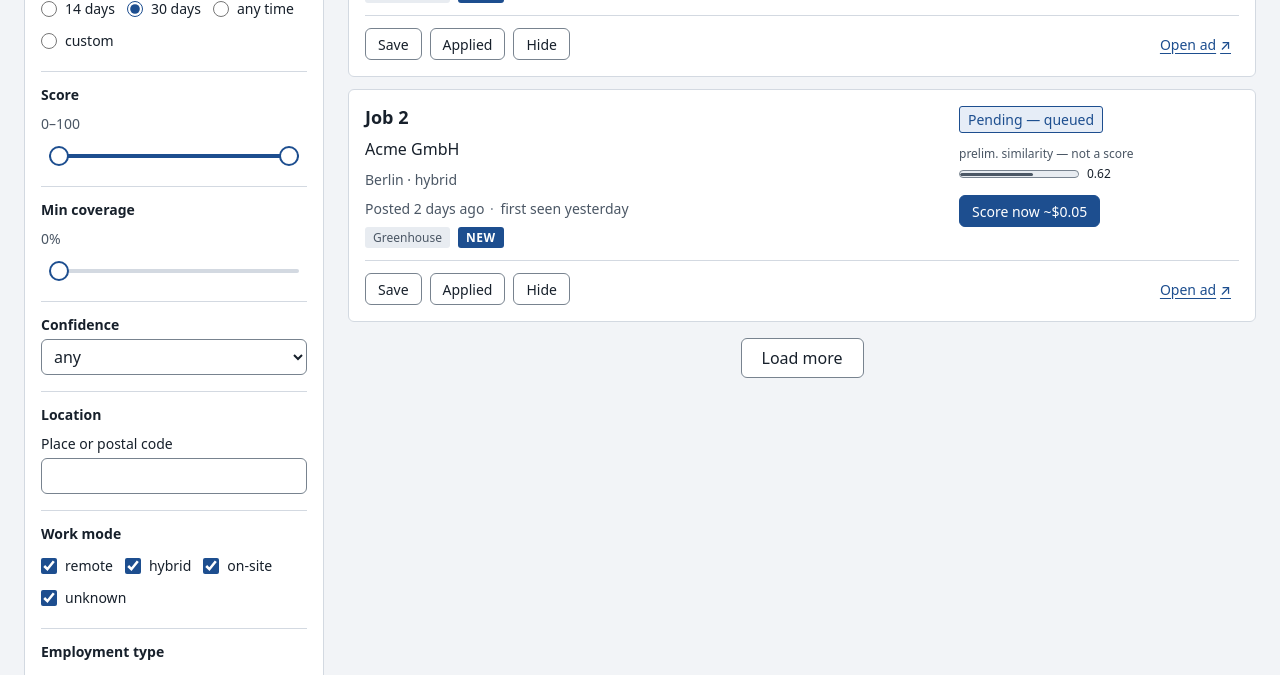
useJobsList › ranking_changed sets the flag and refresh reloads page 1
The width and height of the screenshot is (1280, 675).
(page scrolled)
Check: the element "Job 2" is shown, box [348,89,1256,322]
Click the button "Load more" at (802, 358), box [740,338,864,378]
(page scrolled)
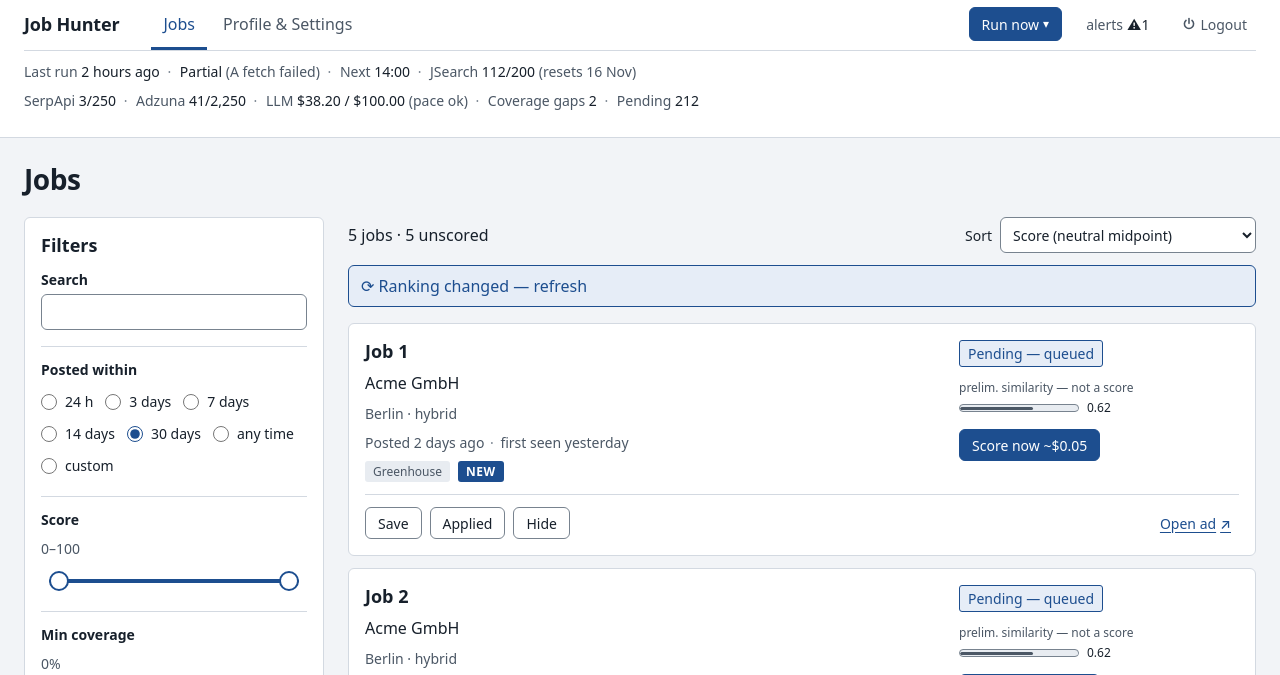
Click the button "⟳ Ranking changed — refresh" at (474, 286), box [348,265,1256,307]
(page scrolled)
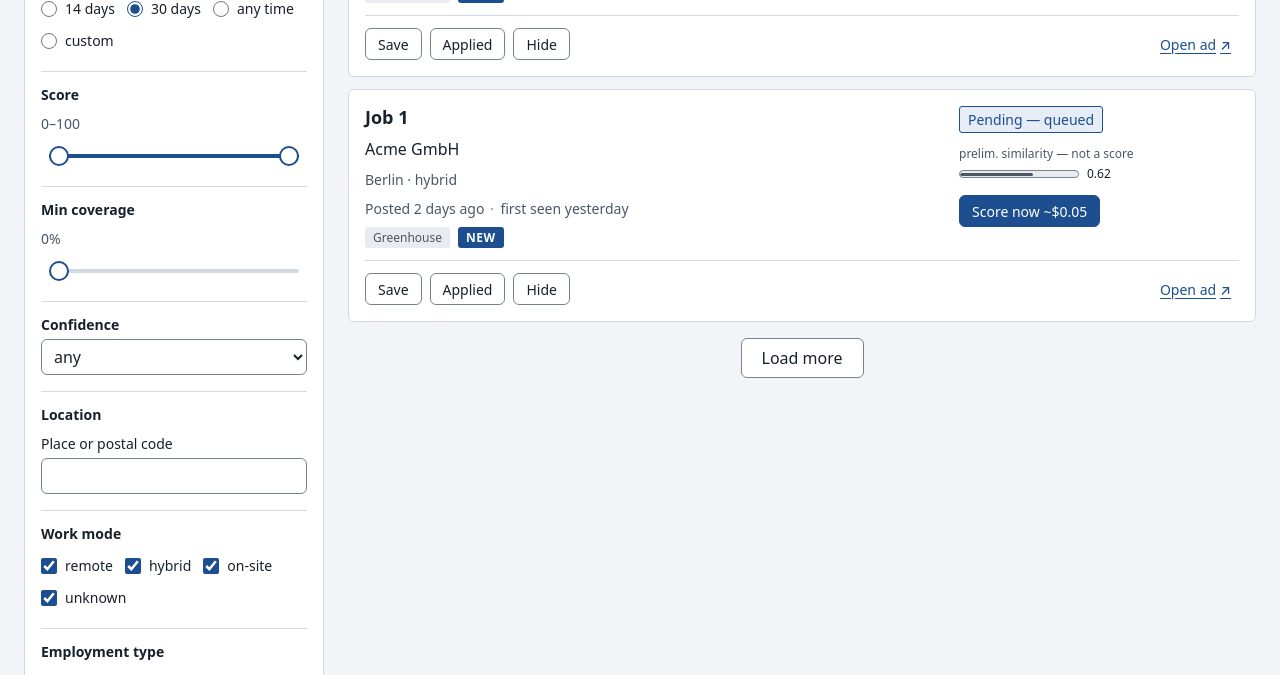
Check: the button "⟳ Ranking changed — refresh" is gone
Click the button "Load more" at (802, 358), box [740,338,864,378]
(page scrolled)
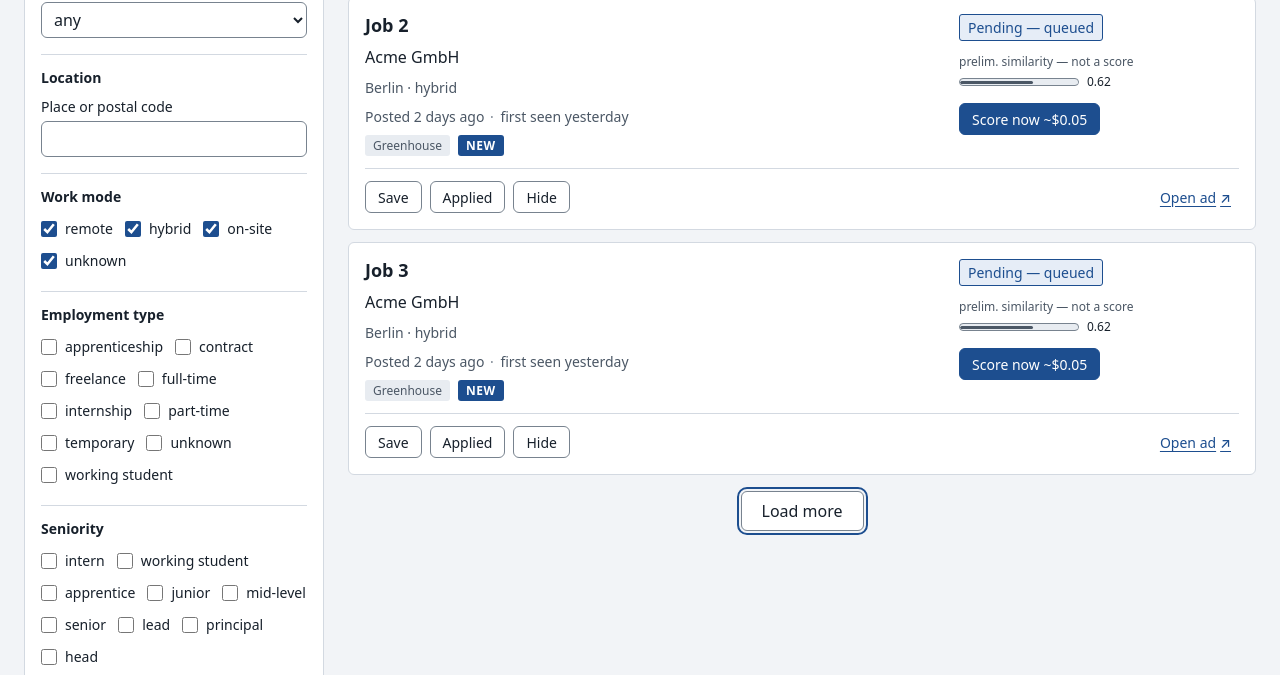
Check: the button "⟳ Ranking changed — refresh" is not shown
Check: the element "Job 3" is shown, box [348,242,1256,475]
